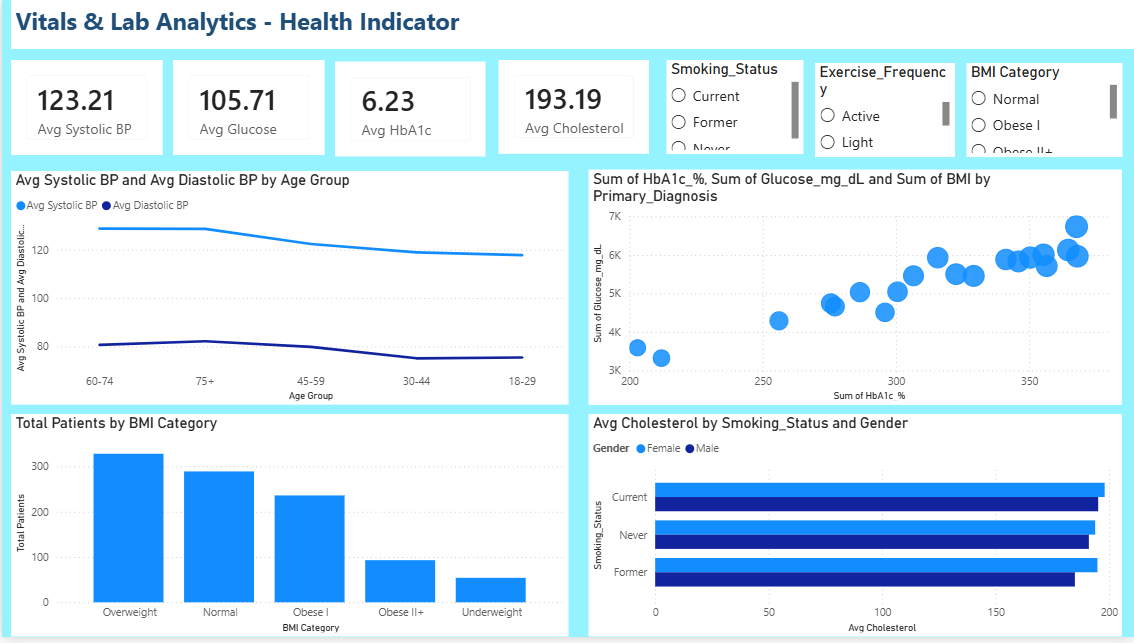

The page's visual inventory and layout, read from the dashboard file:
{"tool":"powerbi","page":{"name":"Vitals & Lab Analytics","canvas":[1280,720],"ordinal":2},"visuals":[{"type":"textbox","box":[10,0,1270,55],"z":0},{"type":"cardVisual","fields":{"Data":["Patient Data.Avg Systolic BP"]},"box":[10,68.6,171.4,107.1],"z":1000},{"type":"cardVisual","fields":{"Data":["Patient Data.Avg Glucose"]},"box":[192.9,68.6,171.4,107.1],"z":2000},{"type":"cardVisual","fields":{"Data":["Patient Data.Avg HbA1c"]},"box":[375.7,70,170,107.1],"z":3000},{"type":"listSlicer","fields":{"Values":["Patient Data.Smoking_Status"]},"box":[750,68.6,154.3,105.7],"z":4000},{"type":"cardVisual","fields":{"Data":["Patient Data.Avg Cholesterol"]},"box":[561.4,68.6,170,105.7],"z":5000},{"type":"lineChart","fields":{"Category":["Patient Data.Age Group"],"Y":["Patient Data.Avg Systolic BP","Patient Data.Avg Diastolic BP"]},"box":[10,192.9,630,264.3],"z":5001},{"type":"clusteredColumnChart","fields":{"Category":["Patient Data.BMI Category"],"Y":["Patient Data.Total Patients"]},"box":[10,468.6,630,251.4],"z":5002},{"type":"scatterChart","fields":{"X":["Sum(Patient Data.HbA1c_%)"],"Y":["Sum(Patient Data.Glucose_mg_dL)"],"Category":["Patient Data.Primary_Diagnosis"],"Size":["Sum(Patient Data.BMI)"]},"box":[662.9,191.4,602.9,265.7],"z":5003},{"type":"clusteredBarChart","fields":{"Category":["Patient Data.Smoking_Status"],"Y":["Patient Data.Avg Cholesterol"],"Series":["Patient Data.Gender"]},"box":[662.9,468.6,602.9,251.4],"z":5004},{"type":"listSlicer","fields":{"Values":["Patient Data.Exercise_Frequency"]},"box":[918.6,71.4,157.1,105.7],"z":5005},{"type":"listSlicer","fields":{"Values":["Patient Data.BMI Category"]},"box":[1090,71.4,175.7,105.7],"z":5006}]}

Visuals, with their boxes in screenshot pixels (x1, y1, x2, y2), scaled from the page's 1280x720 canvas onto the 1134x643 screenshot:
textbox: <bbox>9, 0, 1133, 49</bbox>
cardVisual - Patient Data.Avg Systolic BP: <bbox>9, 61, 161, 157</bbox>
cardVisual - Patient Data.Avg Glucose: <bbox>171, 61, 323, 157</bbox>
cardVisual - Patient Data.Avg HbA1c: <bbox>333, 63, 483, 158</bbox>
listSlicer - Patient Data.Smoking_Status: <bbox>664, 61, 801, 156</bbox>
cardVisual - Patient Data.Avg Cholesterol: <bbox>497, 61, 648, 156</bbox>
lineChart - Patient Data.Age Group x Patient Data.Avg Systolic BP: <bbox>9, 172, 567, 408</bbox>
clusteredColumnChart - Patient Data.BMI Category x Patient Data.Total Patients: <bbox>9, 418, 567, 642</bbox>
scatterChart - Sum(Patient Data.HbA1c_%) x Sum(Patient Data.Glucose_mg_dL): <bbox>587, 171, 1121, 408</bbox>
clusteredBarChart - Patient Data.Smoking_Status x Patient Data.Avg Cholesterol: <bbox>587, 418, 1121, 642</bbox>
listSlicer - Patient Data.Exercise_Frequency: <bbox>814, 64, 953, 158</bbox>
listSlicer - Patient Data.BMI Category: <bbox>966, 64, 1121, 158</bbox>
